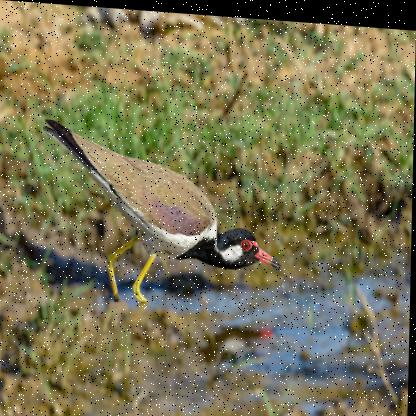Burung: (40, 116, 285, 310)
